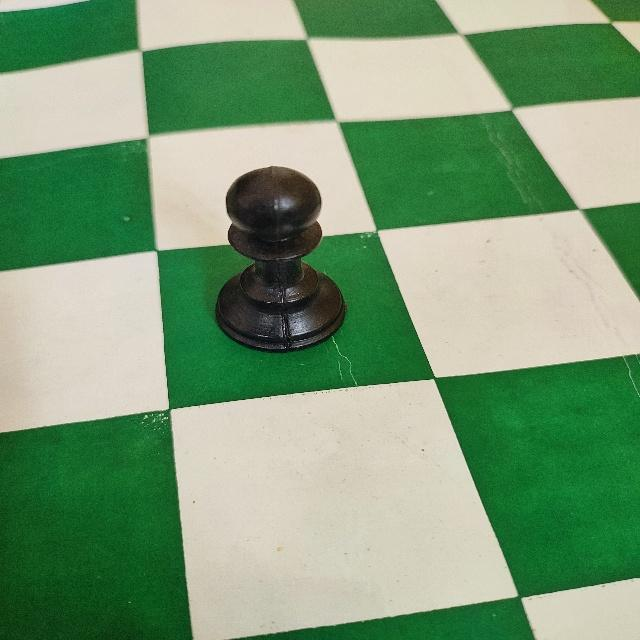Pawn: (212, 164, 350, 355)
